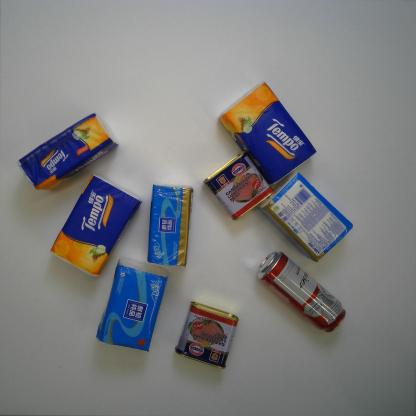Alcohol: (254, 250, 346, 335)
Canned Food: (202, 150, 275, 221), (175, 299, 240, 372)
Tissue: (215, 80, 319, 186), (48, 171, 144, 278), (256, 171, 354, 263), (15, 111, 120, 192), (95, 259, 171, 353), (145, 183, 194, 270)
